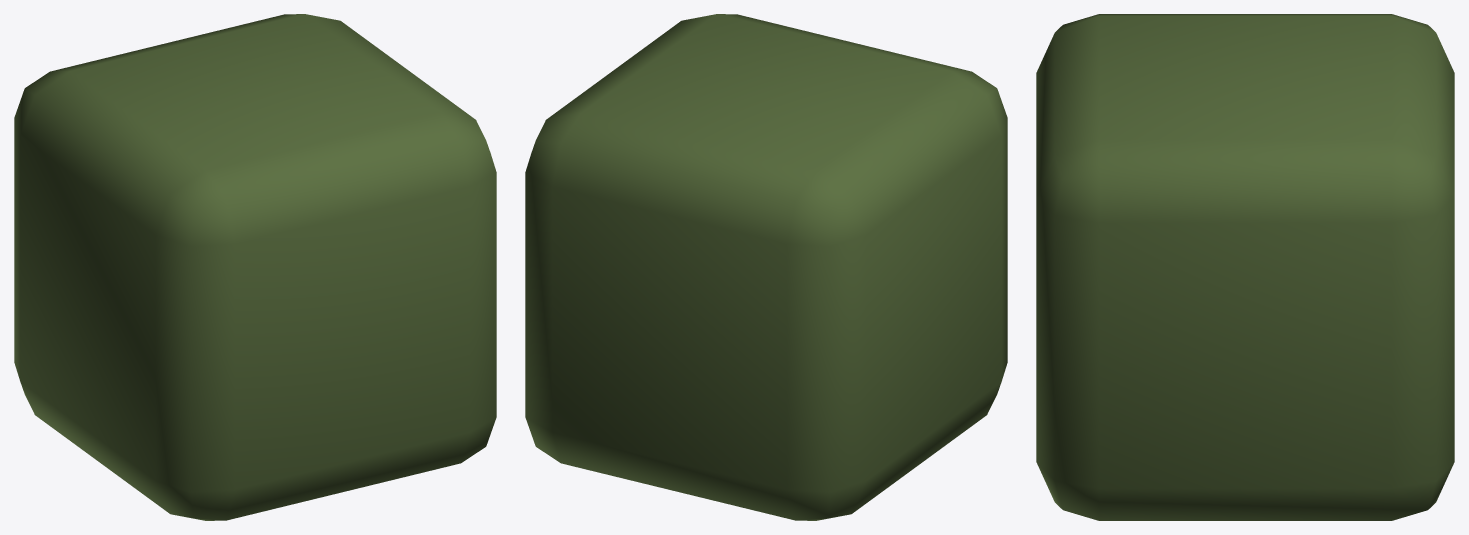
The model's file is Round_Cube.fbx.
3 renders of one model, left to right at view 1: azimuth 30°, elevation 25°; view 2: azimuth 150°, elevation 25°; view 3: azimuth 270°, elevation 25°, orthographic. The views are drawn at different scales.
Parts seen in each view (by area): view 1: Round_Cube; view 2: Round_Cube; view 3: Round_Cube.
Part boxes in pixels (box(x1,y1,x2,y2)): Round_Cube: box(14, 14, 496, 520); Round_Cube: box(525, 14, 1007, 520); Round_Cube: box(1036, 14, 1454, 520).
Size of the model in its own units: 0.8 by 0.8 by 0.8.
